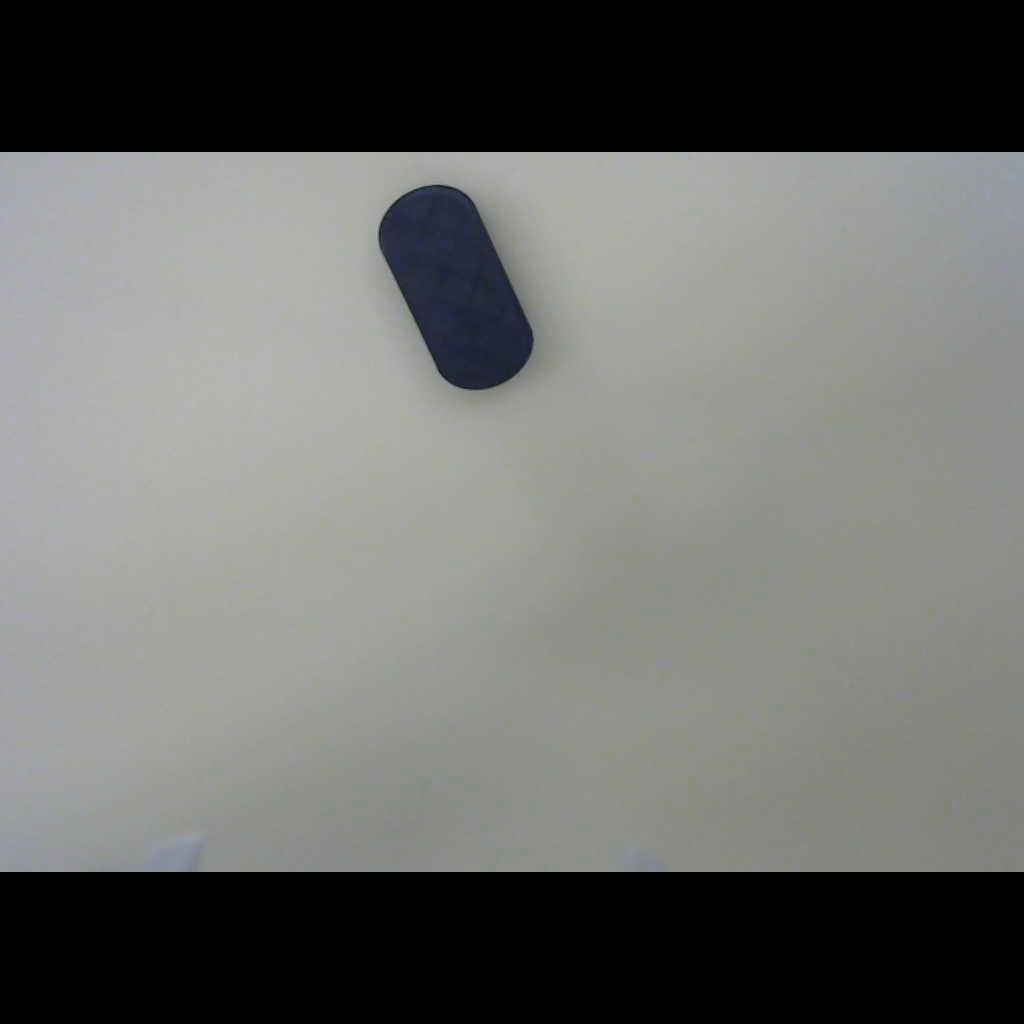oval: (344, 147, 569, 424)
